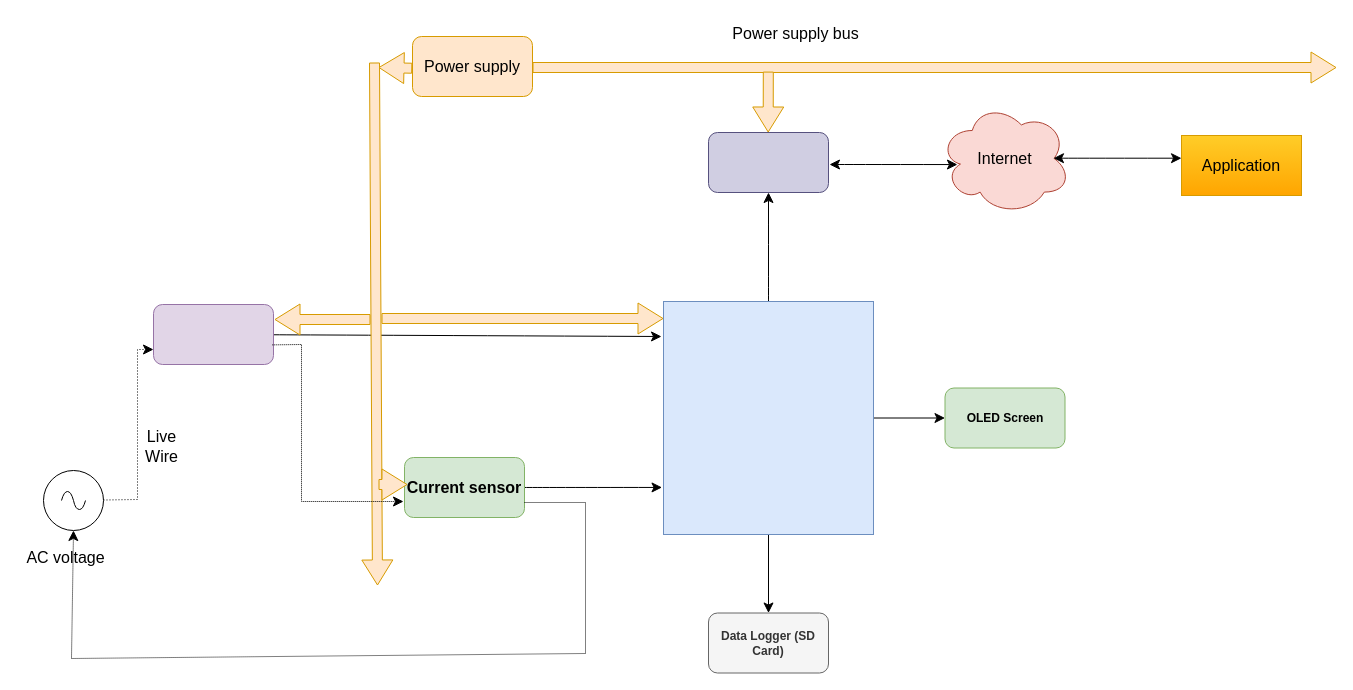
Some shapes in this 1353 by 690 pixel diagram are drawn without their labels. The shapes that lost their labels are listed below. From the top down, each one's centre as x and y in pixels, then its label:
At pixel 768 162: "GSM Module".
At pixel 213 334: "Voltage Sensor".
At pixel 768 417: "Micro-controller".
